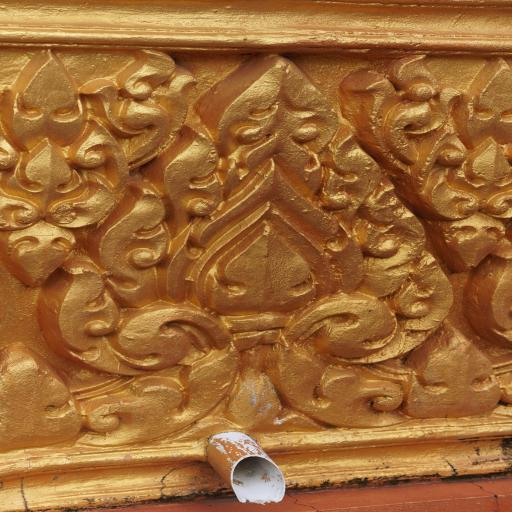lua: (51, 50, 439, 448), (0, 44, 197, 286), (343, 49, 512, 275), (0, 336, 83, 449), (409, 326, 506, 417), (459, 241, 512, 341)
